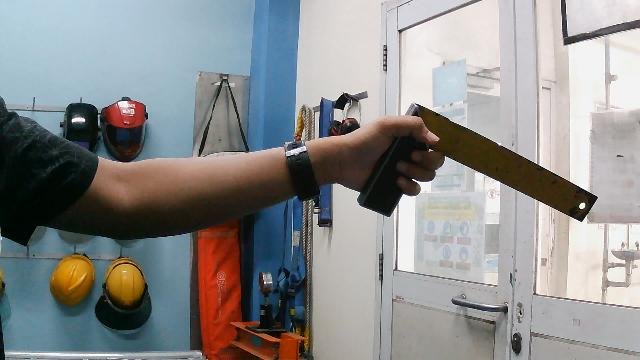penggaris_siku: (349, 97, 603, 227)
